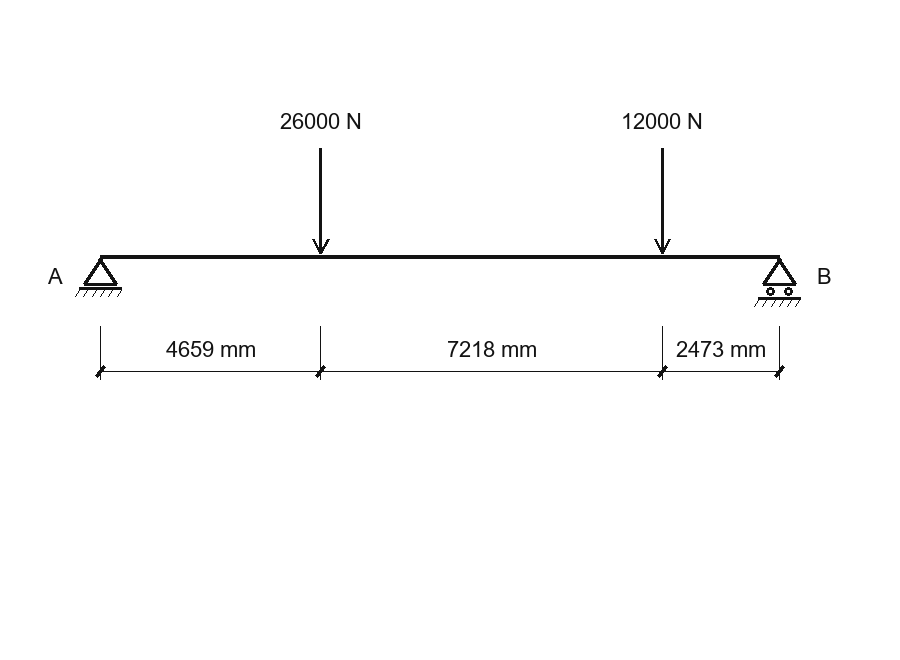pin_support: (75, 258, 122, 297)
point_load: (312, 148, 330, 254), (654, 148, 671, 254)
roller_support: (754, 258, 801, 307)
